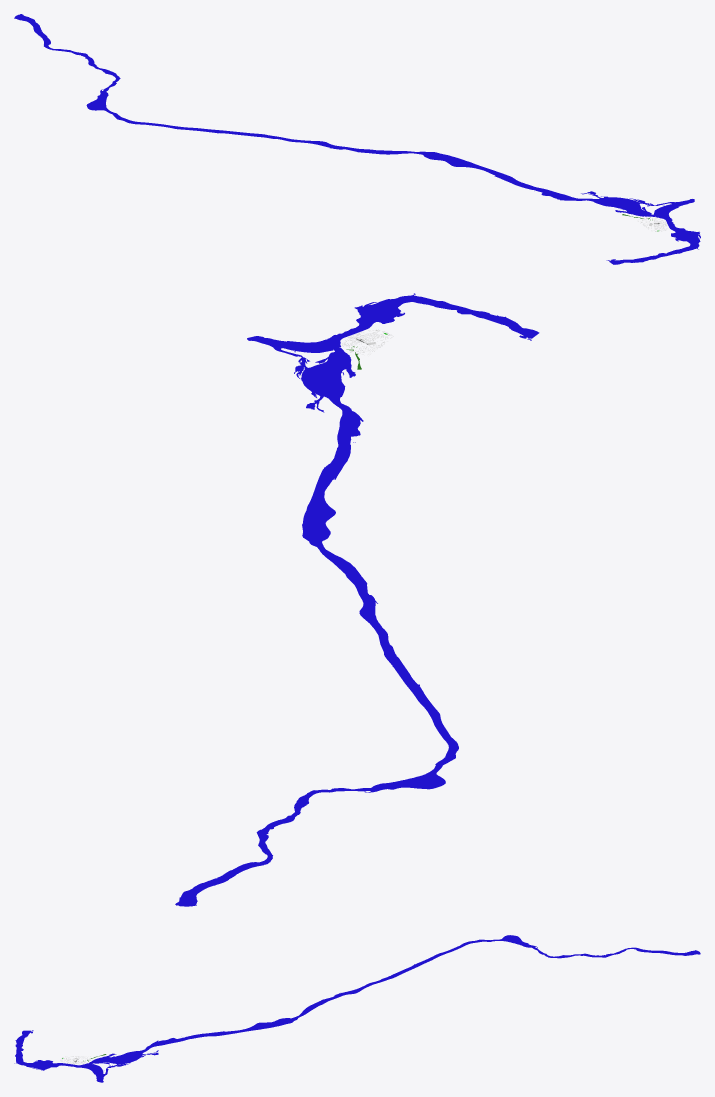
File: map.glb
3 views of the same model, one above another, from view 1: azimuth 30°, elevation 25°; view 2: azimuth 150°, elevation 25°; view 3: azimuth 270°, elevation 25° (orthographic). The views are drawn at different scales.
Parts seen in each view (by area): view 1: map_10.osm_water; view 2: map_10.osm_water; view 3: map_10.osm_water.
Boxes of the visible parts, x1,y1,x2,y2 form: map_10.osm_water: (14,14,700,264); map_10.osm_water: (175,293,539,906); map_10.osm_water: (14,935,700,1082).
Bounding box in the file's own units: 19872 × 0.2398 × 39053.
